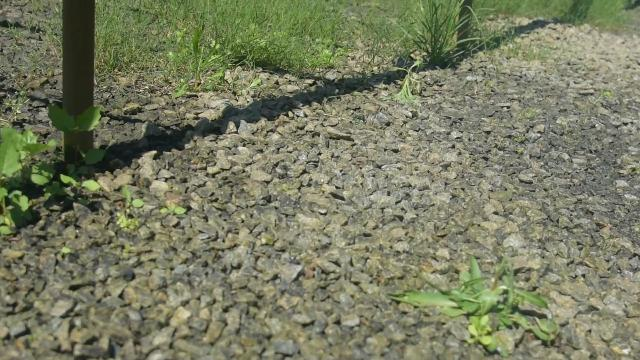MalezaMontesDelPlata: (385, 250, 565, 356), (0, 101, 114, 244), (388, 0, 500, 78), (162, 17, 255, 107), (252, 0, 359, 74)
